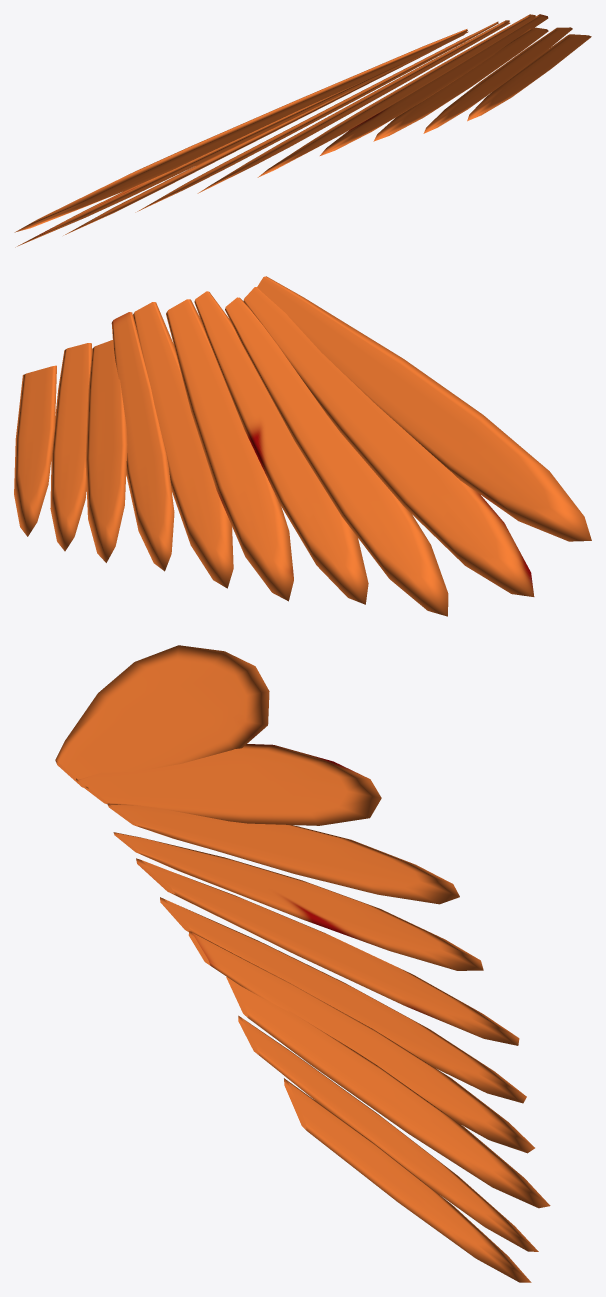
Rendered from alaDer_pajaro_tel.obj.
The picture shows the model from 3 angles, top to bottom: view 1: azimuth 30°, elevation 25°; view 2: azimuth 150°, elevation 25°; view 3: azimuth 270°, elevation 25°; orthographic projection. The views are drawn at different scales.
Visible parts, largest first — view 1: polySurface14; view 2: polySurface14; view 3: polySurface14.
Boxes of the visible parts, x1,y1,x2,y2 form: polySurface14: [14, 14, 591, 247]; polySurface14: [14, 276, 591, 616]; polySurface14: [55, 645, 550, 1282].
Size of the model in its own units: 107 by 37.98 by 41.21.
Materials: 1 (1 with a texture image).
